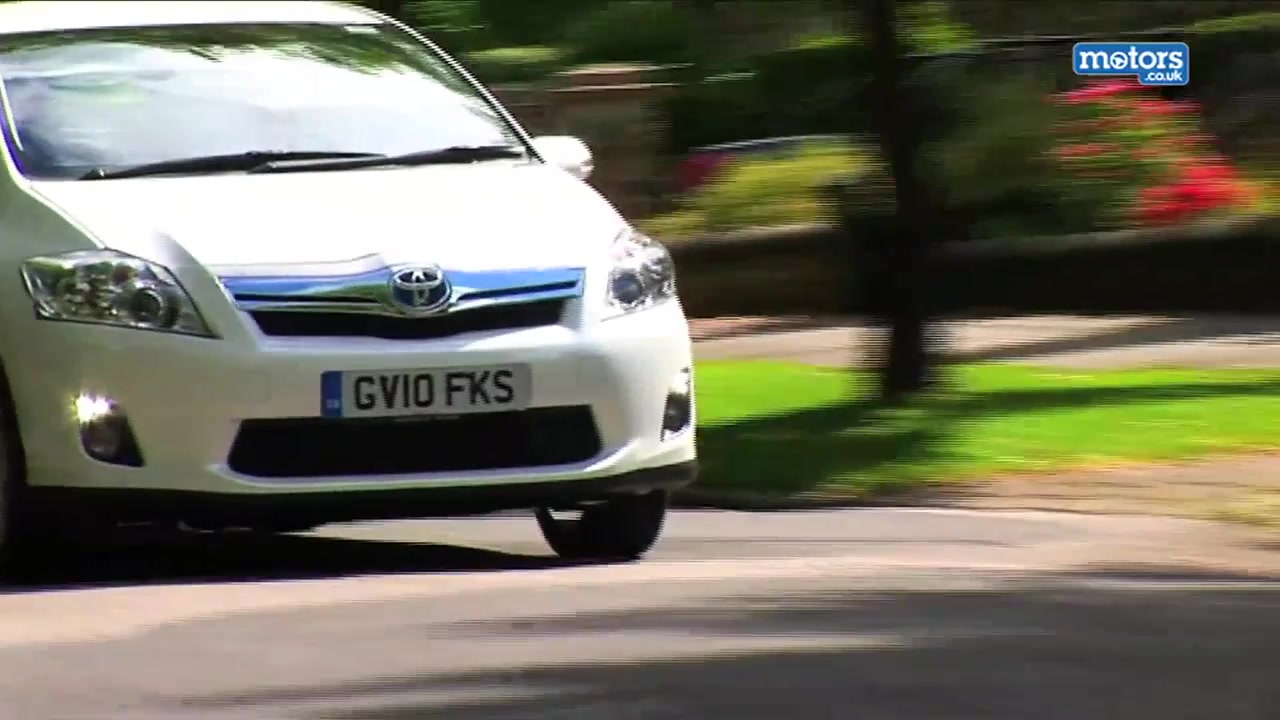car: (4, 1, 701, 563)
